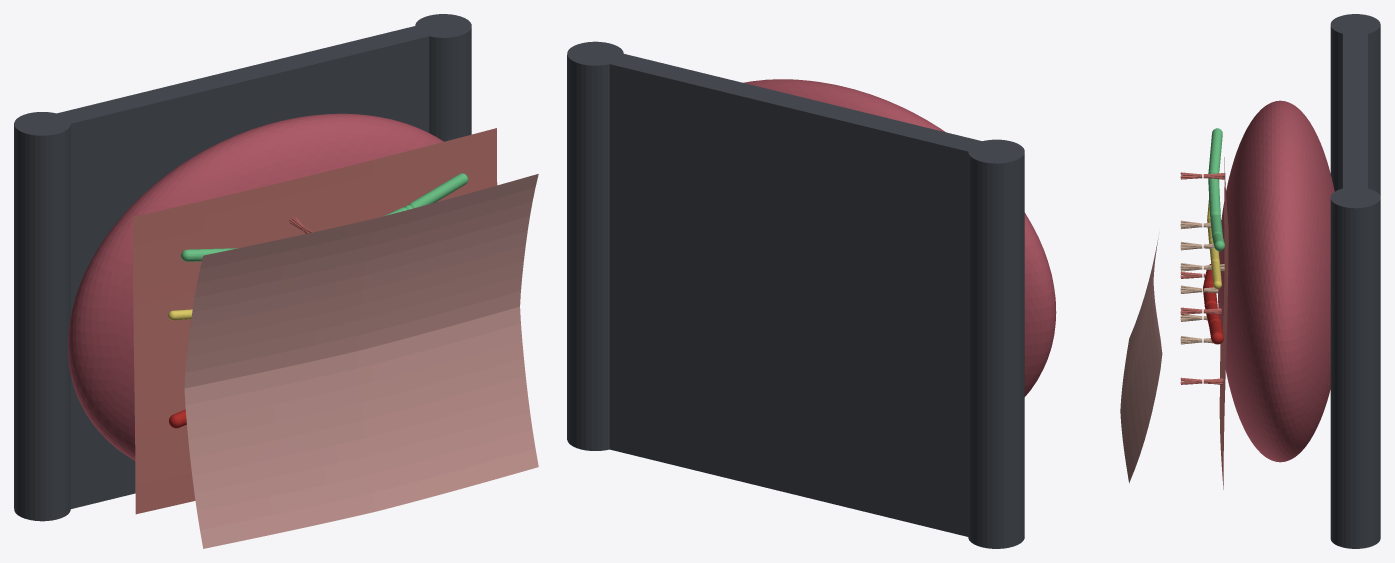
The model's file is dranmar_safeplane_tissue_hydro.glb.
3 views of the same model, side by side, from view 1: azimuth 30°, elevation 25°; view 2: azimuth 150°, elevation 25°; view 3: azimuth 270°, elevation 25° (orthographic). The views are drawn at different scales.
Parts seen in each view (by area): view 1: SuperficialFlap, Fixture, TargetBed, ProtectedOrgan, DuctRight; view 2: Fixture, ProtectedOrgan; view 3: ProtectedOrgan, Fixture, SuperficialFlap, TargetBed, DuctLeft, VesselRight, DuctRight, NerveRight, VesselLeft.
Part boxes in pixels (<box>): SuperficialFlap: <box>184,174,538,548</box>; Fixture: <box>14,14,471,521</box>; TargetBed: <box>132,128,497,514</box>; ProtectedOrgan: <box>68,113,443,460</box>; DuctRight: <box>384,173,468,215</box>; Fixture: <box>567,41,1024,548</box>; ProtectedOrgan: <box>743,79,1056,396</box>; ProtectedOrgan: <box>1218,100,1334,462</box>; Fixture: <box>1330,14,1380,548</box>; SuperficialFlap: <box>1120,239,1162,483</box>; TargetBed: <box>1219,157,1228,489</box>; DuctLeft: <box>1208,128,1222,217</box>; VesselRight: <box>1205,303,1223,344</box>; DuctRight: <box>1210,214,1224,251</box>; NerveRight: <box>1209,240,1221,288</box>; VesselLeft: <box>1203,264,1217,307</box>.
Size of the model in its own units: 0.22 by 0.18 by 0.1246.
